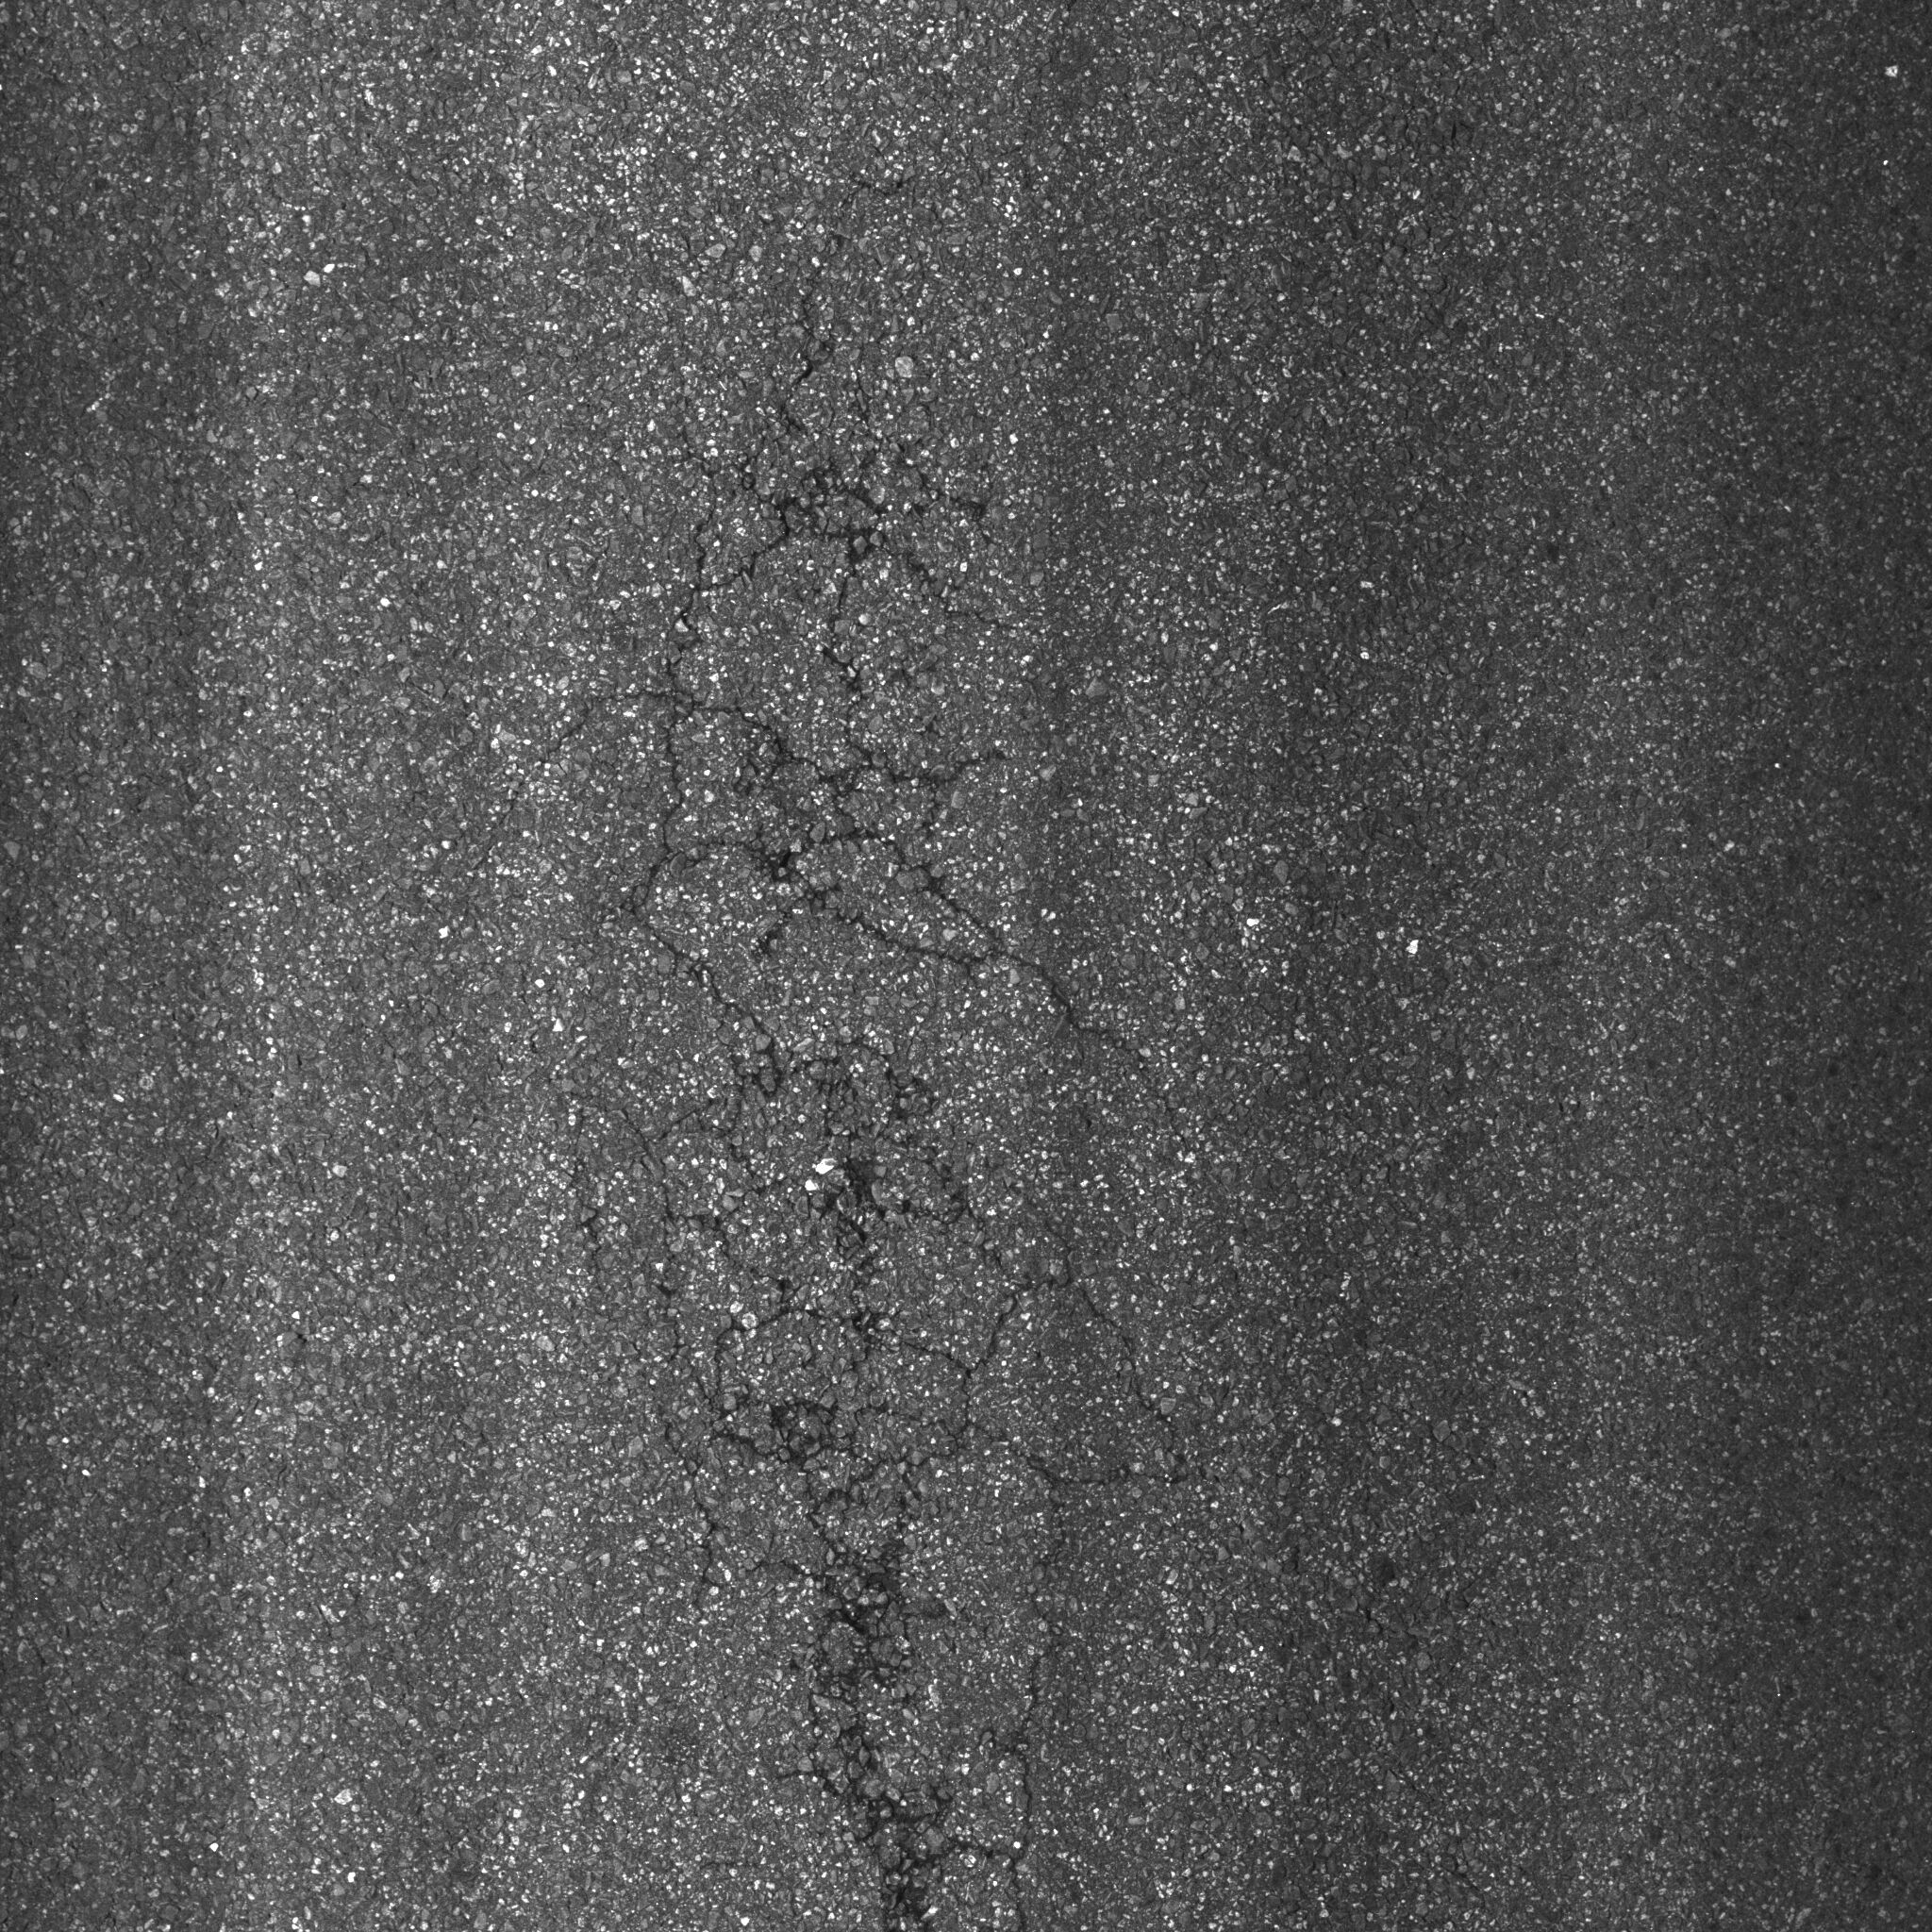alligator: (488, 290, 1148, 1932)
